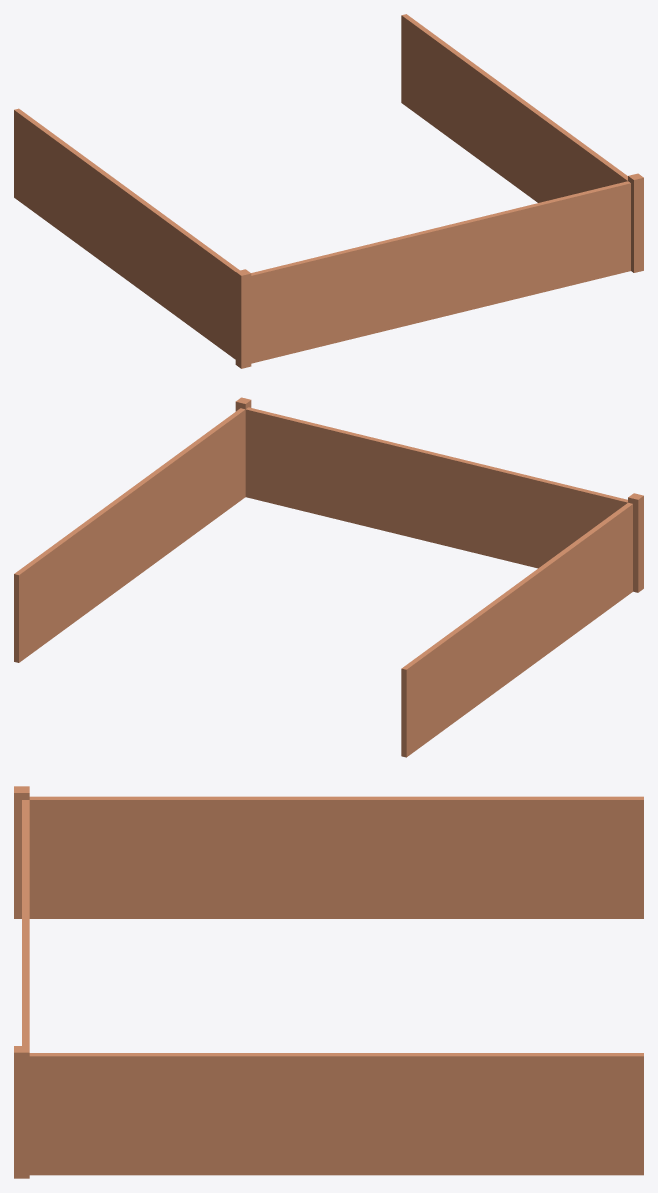
File: fence_large.fbx
The picture shows the model from 3 angles, top to bottom: view 1: azimuth 30°, elevation 25°; view 2: azimuth 150°, elevation 25°; view 3: azimuth 270°, elevation 25°; orthographic projection. The views are drawn at different scales.
Parts seen in each view (by area): view 1: fence_large; view 2: fence_large; view 3: fence_large.
Boxes of the visible parts, <box> form: fence_large: <box>14,14,643,368</box>; fence_large: <box>14,397,643,757</box>; fence_large: <box>14,786,643,1178</box>.
Bounding box in the file's own units: 12 × 2.65 × 12.
